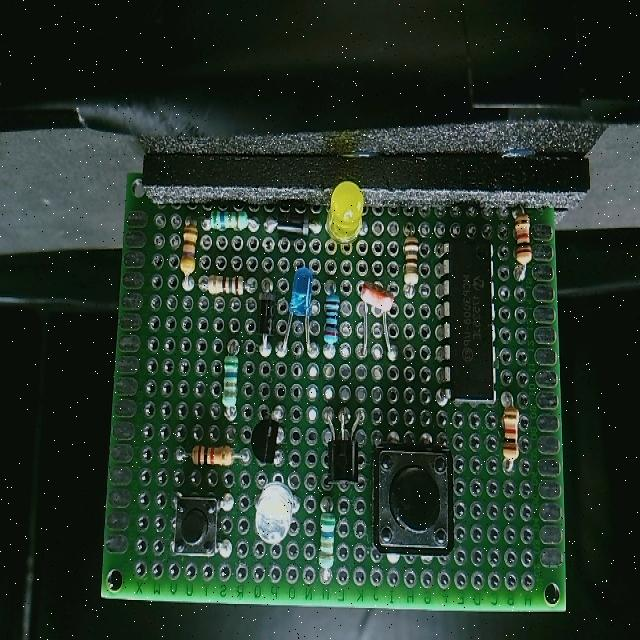IC: (436, 230, 500, 412)
cds: (360, 274, 392, 316)
diode: (266, 209, 316, 243), (254, 278, 276, 342)
led: (248, 482, 302, 540), (327, 182, 367, 248), (286, 268, 314, 328)
resistor: (398, 228, 428, 292), (172, 217, 202, 279), (314, 512, 342, 578), (195, 272, 248, 304), (186, 443, 238, 475), (220, 349, 245, 415), (512, 209, 536, 277), (205, 204, 253, 238), (318, 286, 342, 352), (500, 408, 525, 466)
switch: (369, 446, 462, 556), (170, 490, 224, 564)
transistor: (322, 428, 362, 490), (246, 405, 286, 464)
